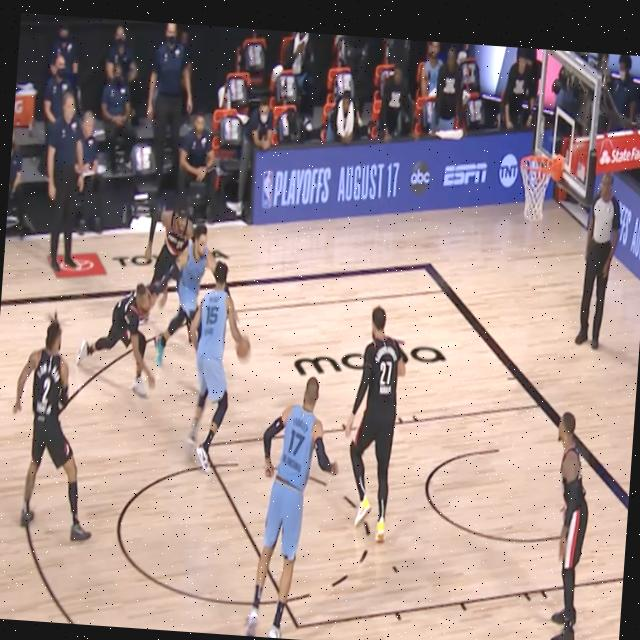no foul: (174, 268, 249, 470), (140, 198, 209, 376), (79, 261, 160, 398)
